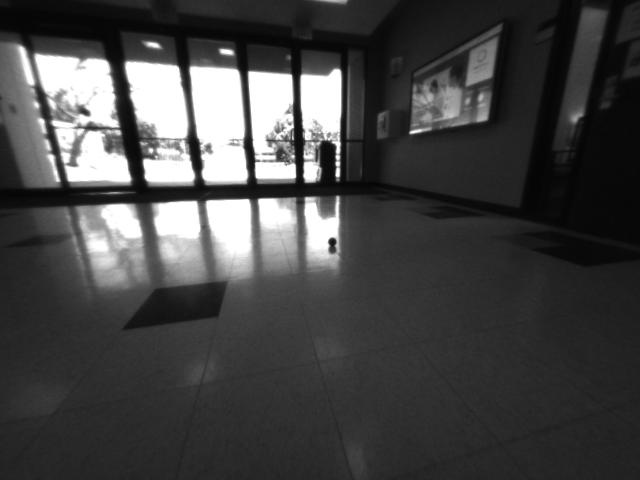dogtoy: (323, 233, 345, 251)
